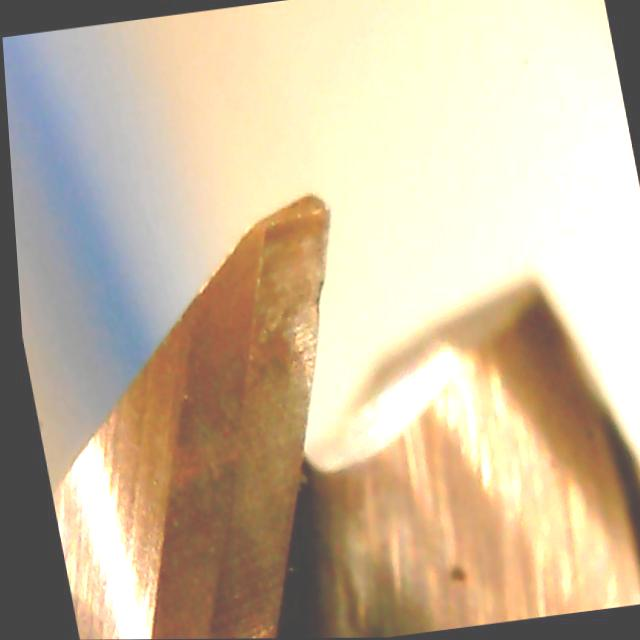Tool-wear-class-1: (203, 183, 375, 375)
